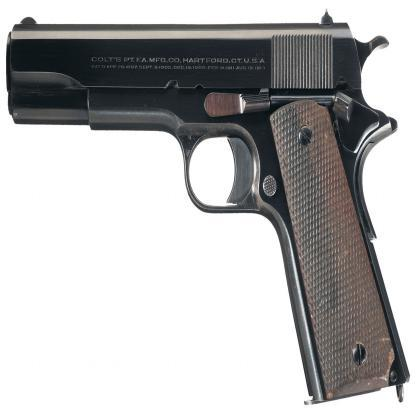gun: (5, 4, 408, 402)
